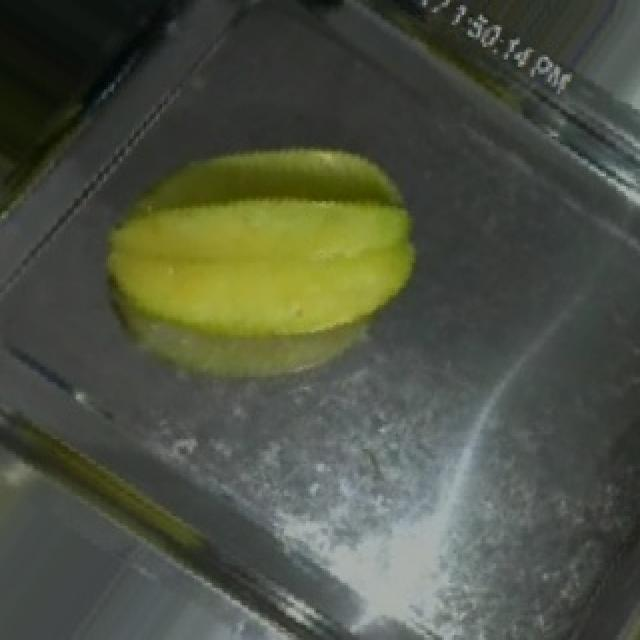fruit: (58, 70, 478, 447)
